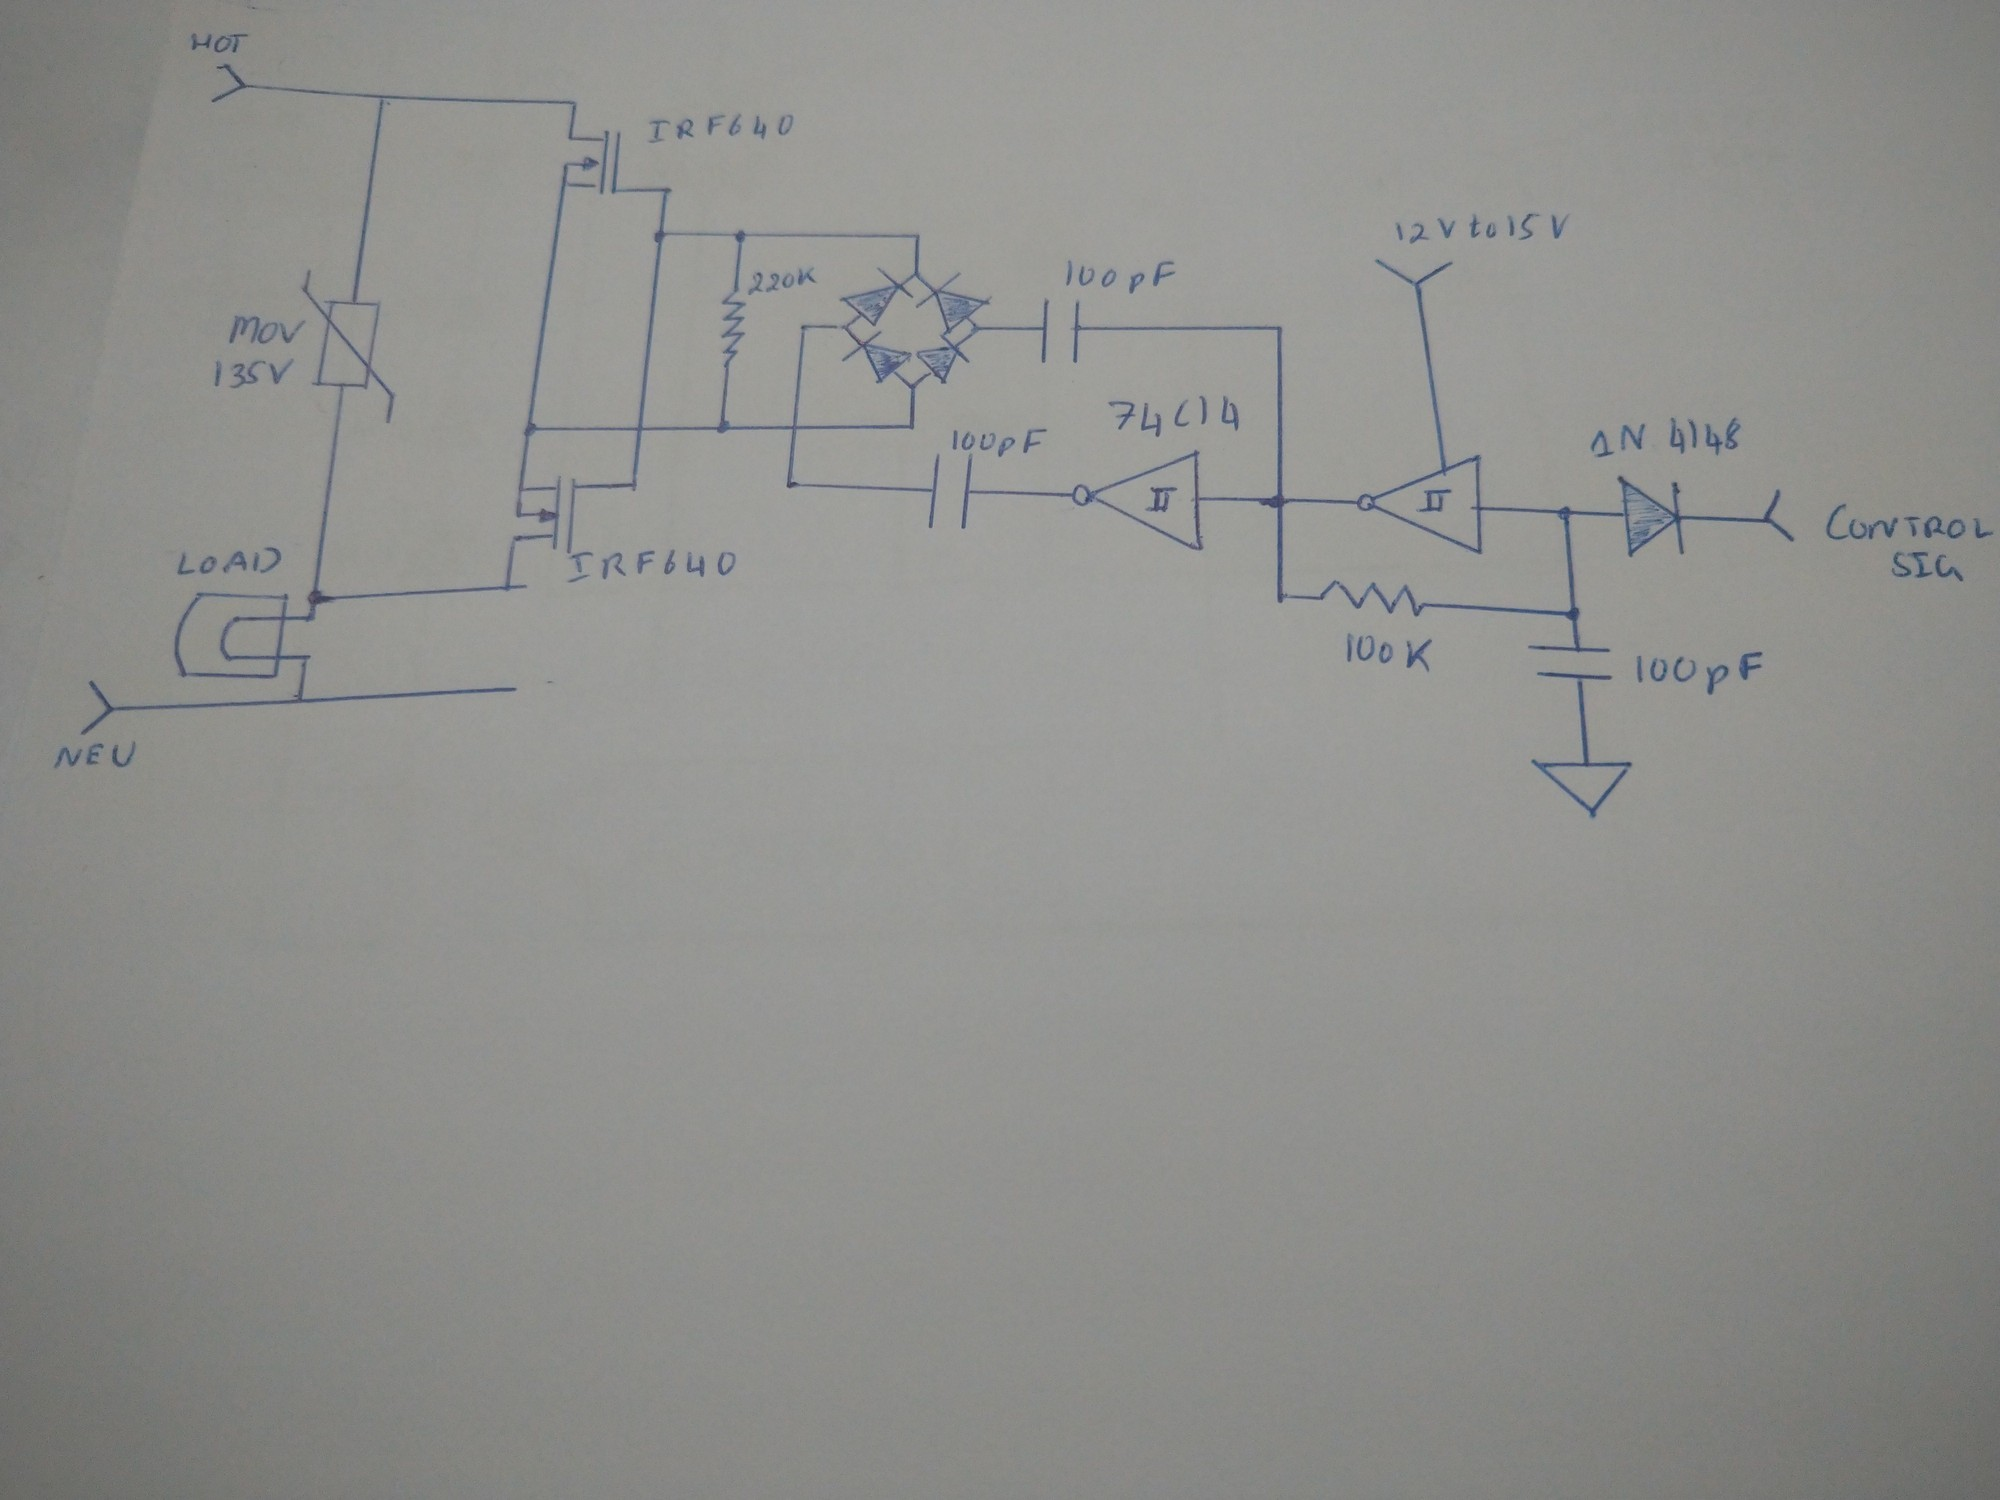capacitor.unpolarized: (921, 451, 984, 533), (1524, 640, 1617, 689), (1033, 295, 1091, 367)
crossover: (784, 418, 805, 436), (628, 418, 649, 436)
diode: (1613, 473, 1690, 562), (838, 266, 912, 328), (915, 273, 987, 332), (843, 331, 912, 384), (915, 336, 970, 384)
gnd: (1526, 755, 1638, 819)
junction: (1261, 488, 1296, 515), (1559, 603, 1587, 629), (1550, 499, 1576, 525), (712, 416, 735, 440), (647, 224, 672, 246), (521, 418, 545, 440), (654, 180, 676, 202), (302, 588, 328, 607), (498, 577, 520, 597), (370, 88, 392, 109), (729, 225, 750, 246), (1268, 320, 1290, 339), (1269, 588, 1291, 607), (562, 93, 584, 112), (624, 476, 643, 495), (291, 690, 310, 709), (836, 320, 855, 337), (795, 318, 813, 336), (907, 265, 924, 282), (302, 610, 320, 627), (967, 323, 983, 340), (902, 418, 920, 433), (904, 380, 923, 394), (298, 651, 313, 666), (781, 477, 798, 492), (907, 228, 924, 243), (509, 682, 521, 698)
lamp: (172, 589, 290, 682)
resistor: (1317, 578, 1428, 621), (718, 285, 748, 370)
schmitt_trigger: (1069, 449, 1208, 556), (1353, 452, 1490, 558)
terminal: (1370, 255, 1458, 290), (1761, 485, 1802, 547), (77, 678, 115, 737), (209, 61, 247, 106)
text: (1584, 416, 1743, 462), (1825, 501, 1995, 542), (1391, 210, 1567, 249), (1633, 649, 1765, 696), (1102, 395, 1243, 440), (565, 548, 735, 583), (643, 112, 798, 147), (1060, 255, 1176, 298), (1343, 630, 1433, 676), (173, 544, 283, 578), (945, 425, 1047, 459), (208, 356, 294, 392), (225, 312, 306, 348), (52, 741, 139, 774), (1890, 548, 1965, 585), (745, 265, 819, 296), (184, 30, 247, 57)
transistor: (504, 474, 578, 556), (557, 128, 625, 199)
varistor: (299, 269, 395, 425)
